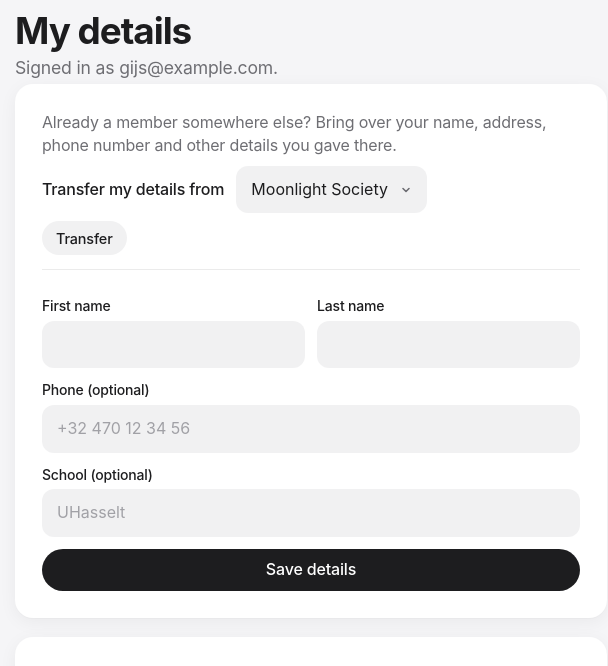
Test: ProfilePage › brings over details from the first organisation, saved only when the person saves
The width and height of the screenshot is (608, 666).
Later steps or results of the test are not shown.
Expected: the dropdown labelled "Transfer my details from" shows "Moonlight Society", 236,166 -> 427,213
Step 1. Click the button "Transfer" → [84, 238], box 42,221 -> 127,255
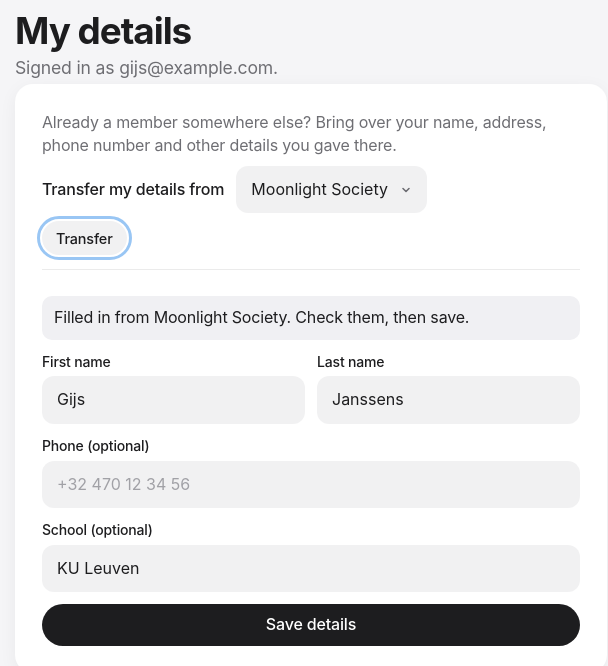
Now the text "Filled in from Moonlight Society. Check them, then save." is shown, box 42,296 -> 580,340
Now the field labelled "First name" holds "Gijs", box 42,376 -> 305,424
